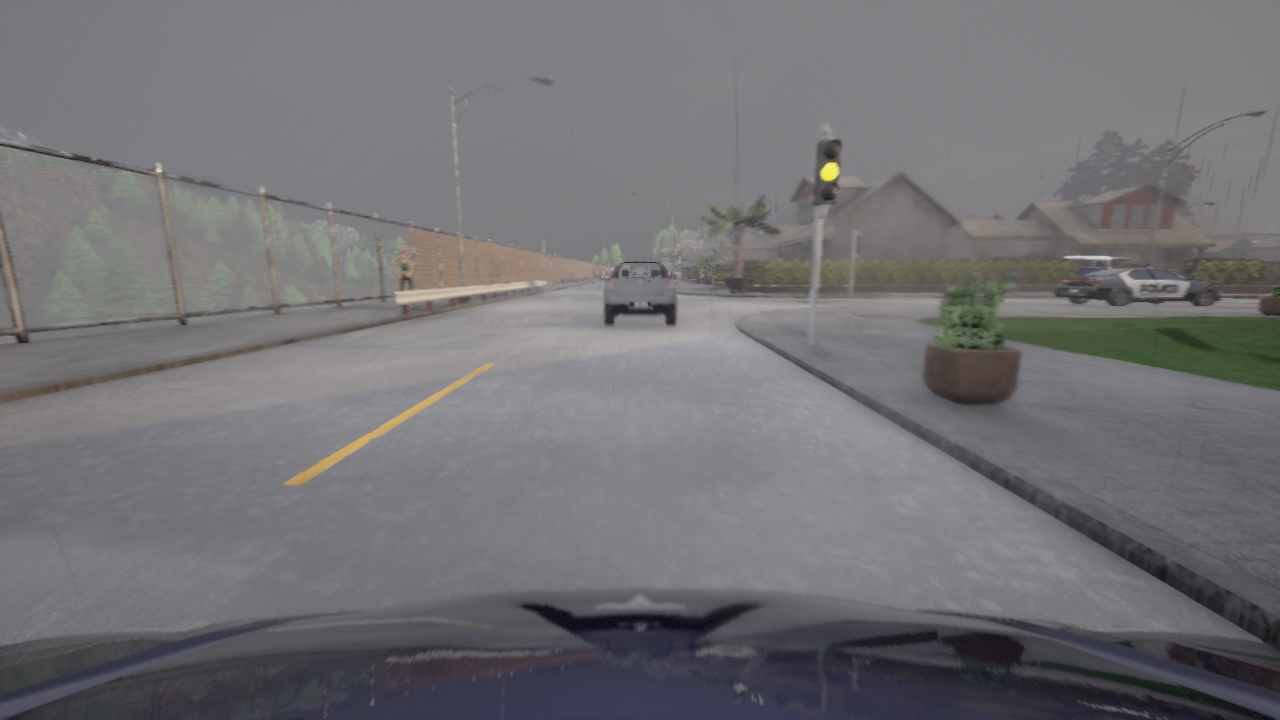cyclist: (0, 588, 1279, 719), (1054, 264, 1220, 306), (603, 260, 676, 325), (1062, 255, 1134, 275)
pedestrian: (398, 251, 415, 305), (1008, 260, 1021, 292)
